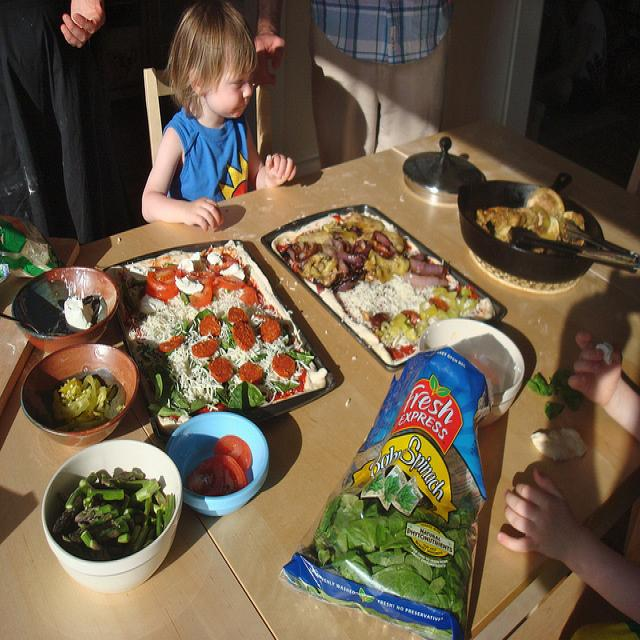chair: (145, 54, 272, 165)
